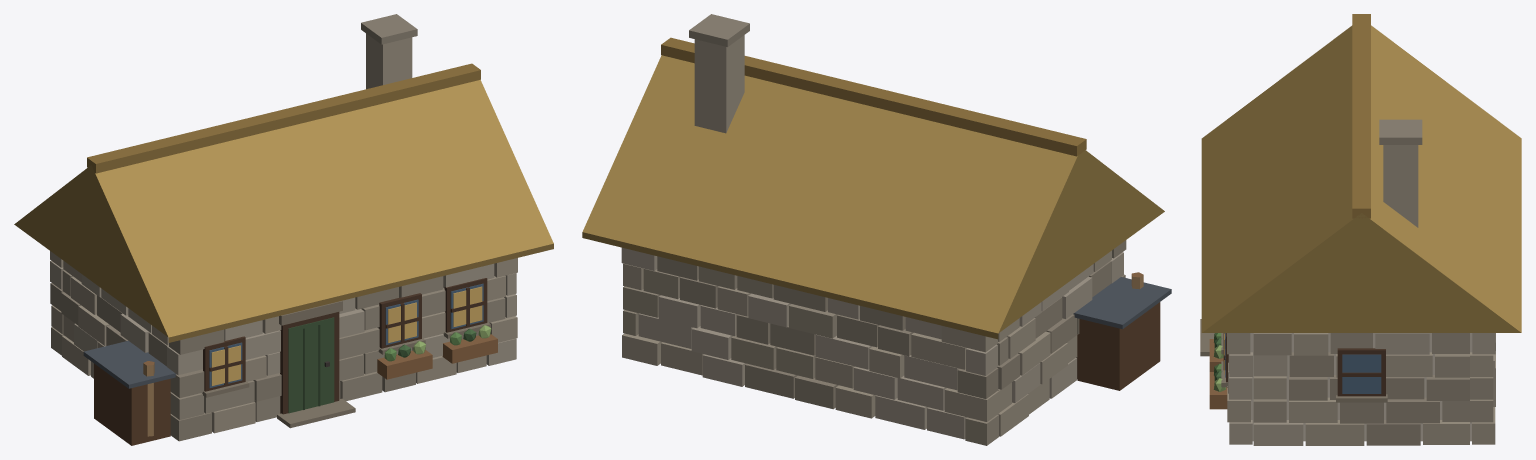
Rendered from cottage_hesper.glb.
The picture shows the model from 3 angles, left to right: view 1: azimuth 30°, elevation 25°; view 2: azimuth 150°, elevation 25°; view 3: azimuth 270°, elevation 25°; orthographic projection. The views are drawn at different scales.
Parts seen in each view (by area): view 1: cottage_hesper, cottage_hesper_w-19_glow, cottage_hesper_w18_glow, cottage_hesper_w8_glow; view 2: cottage_hesper; view 3: cottage_hesper.
Boxes of the visible parts, bbox=[...] form: cottage_hesper: bbox=[14, 14, 553, 445]; cottage_hesper_w-19_glow: bbox=[211, 345, 240, 385]; cottage_hesper_w18_glow: bbox=[453, 286, 482, 326]; cottage_hesper_w8_glow: bbox=[388, 302, 416, 342]; cottage_hesper: bbox=[582, 14, 1171, 445]; cottage_hesper: bbox=[1200, 14, 1521, 445].
Size of the model in its own units: 6.25 by 4.15 by 4.12.
